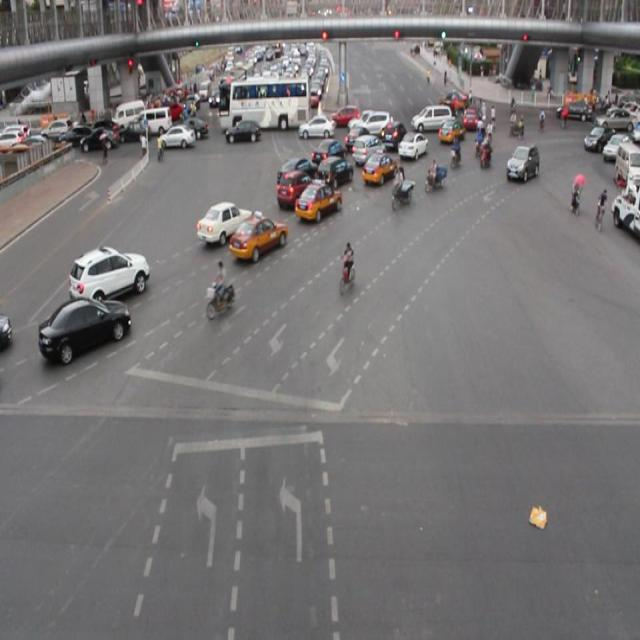car: (40, 297, 131, 354), (70, 243, 149, 301), (229, 215, 286, 259), (196, 200, 253, 242), (294, 178, 342, 220), (276, 171, 316, 206), (316, 154, 352, 189), (279, 156, 315, 188), (361, 152, 395, 185), (506, 145, 538, 180), (350, 136, 384, 166), (310, 140, 346, 168), (397, 130, 427, 157)
